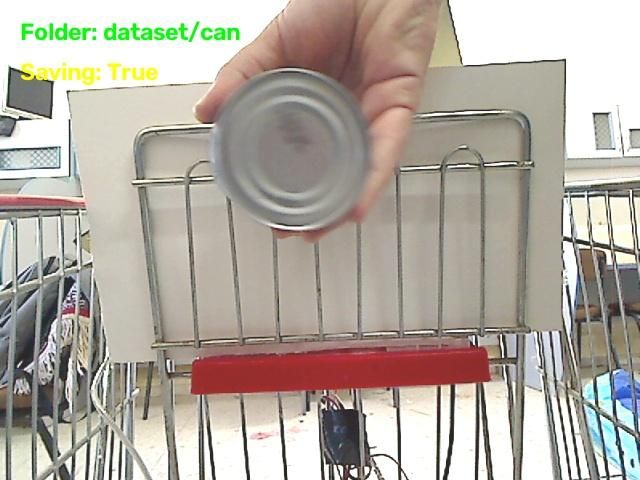can: (210, 68, 369, 230)
